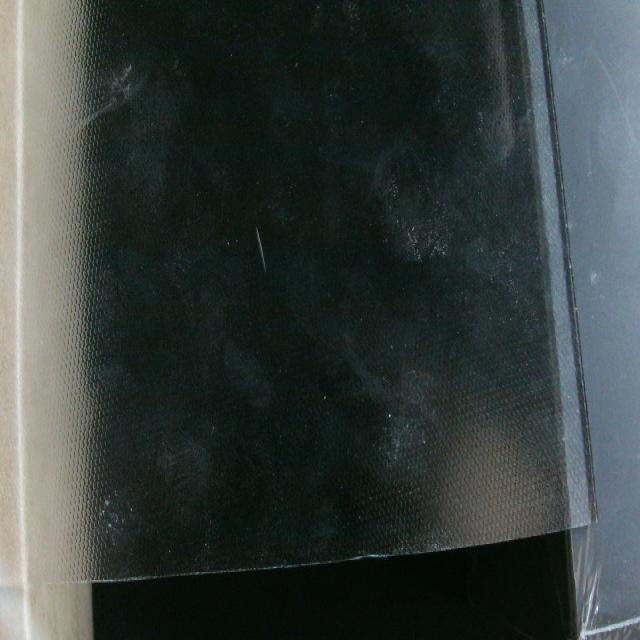scratch: (249, 217, 279, 283)
